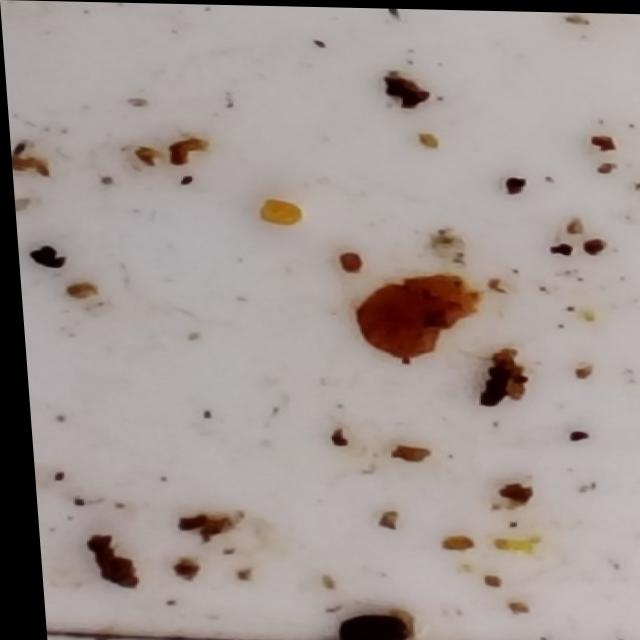varroa: (322, 612, 398, 639)
